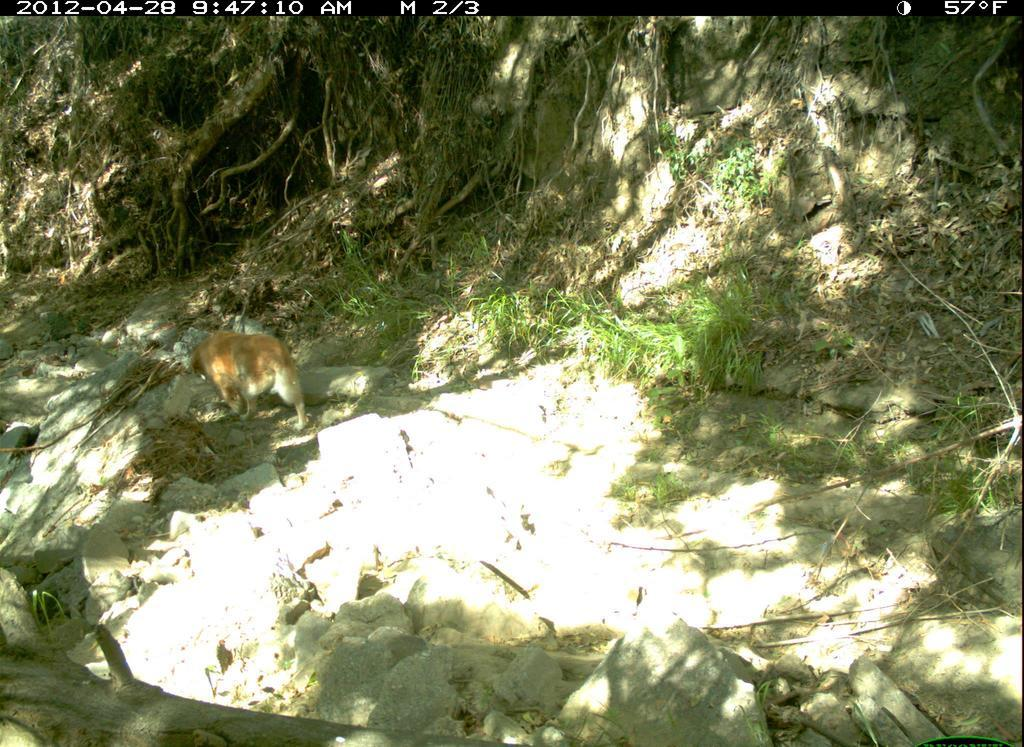dog: (150, 327, 318, 432)
